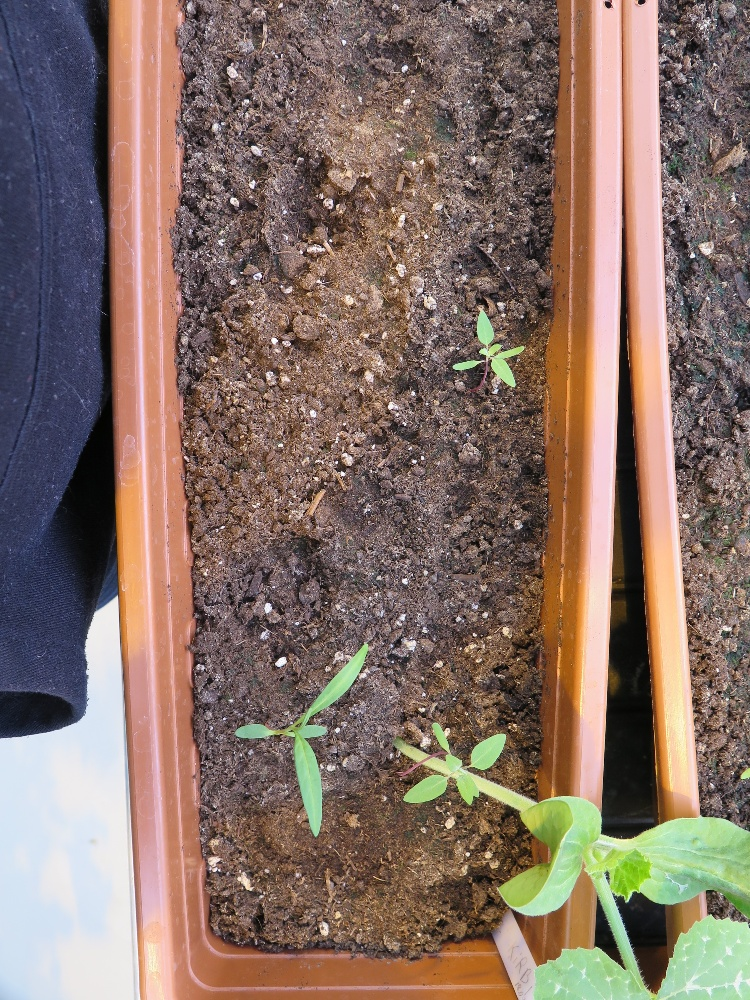weed: (231, 639, 369, 848), (450, 306, 527, 395)
